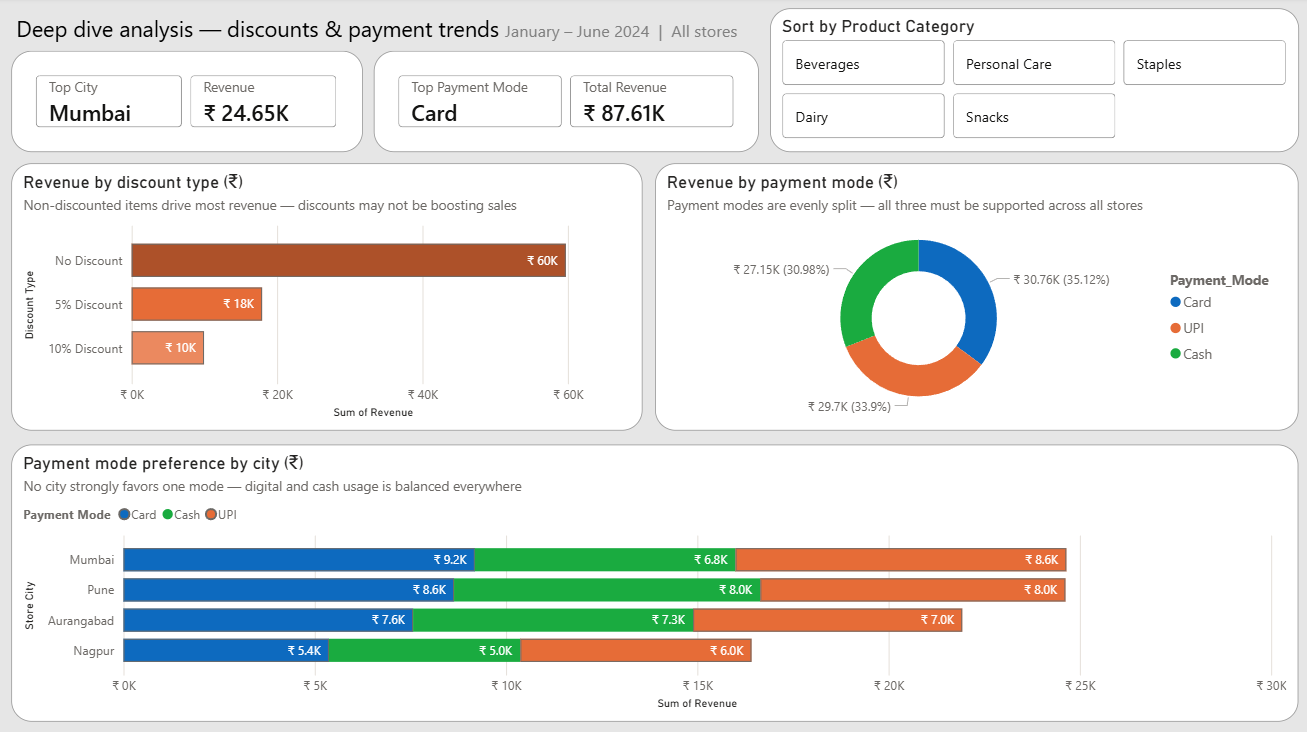

The page's visual inventory and layout, read from the dashboard file:
{"tool":"powerbi","page":{"name":"Page 2","canvas":[1280,720],"ordinal":1},"visuals":[{"type":"clusteredBarChart","title":"Revenue by discount type (₹)","fields":{"Y":["Sum(freshmart_sales.Revenue)"],"Category":["freshmart_sales.Discount_Type"]},"box":[11,162.6,617.5,261.7],"z":0},{"type":"donutChart","title":"Revenue by payment mode (₹)","fields":{"Y":["Sum(freshmart_sales.Revenue)"],"Category":["freshmart_sales.Payment_Mode"]},"box":[640.8,162.6,629.8,261.7],"z":1000},{"type":"barChart","title":"Payment mode preference by city (₹)","fields":{"Y":["Sum(freshmart_sales.Revenue)"],"Category":["freshmart_sales.Store_City"],"Series":["freshmart_sales.Payment_Mode"]},"box":[11,437.8,1259.5,271.5],"z":2000},{"type":"advancedSlicerVisual","fields":{"Values":["freshmart_sales.Product_Category"]},"box":[753.3,11,517.3,140.6],"z":3000},{"type":"cardVisual","fields":{"Data":["freshmart_sales.Top City","freshmart_sales.Top City Revenue"]},"box":[11,52.6,343.6,99],"z":4000},{"type":"cardVisual","fields":{"Data":["freshmart_sales.Top Payment Mode","Sum(freshmart_sales.Revenue)"]},"box":[365.6,52.6,376.6,99],"z":5000},{"type":"textbox","title":"Deep dive analysis — discounts & payment trends","box":[11,11,731.3,41.6],"z":6000}]}

Visuals, with their boxes in screenshot pixels (x1, y1, x2, y2), scaled from the page's 1280x720 canvas onto the 1307x732 screenshot:
"Revenue by discount type (₹)" clusteredBarChart: 11/165/642/431
"Revenue by payment mode (₹)" donutChart: 654/165/1297/431
"Payment mode preference by city (₹)" barChart: 11/445/1297/721
advancedSlicerVisual - freshmart_sales.Product_Category: 769/11/1297/154
cardVisual - freshmart_sales.Top City x freshmart_sales.Top City Revenue: 11/53/362/154
cardVisual - freshmart_sales.Top Payment Mode x Sum(freshmart_sales.Revenue): 373/53/758/154
"Deep dive analysis — discounts & payment trends" textbox: 11/11/758/53
